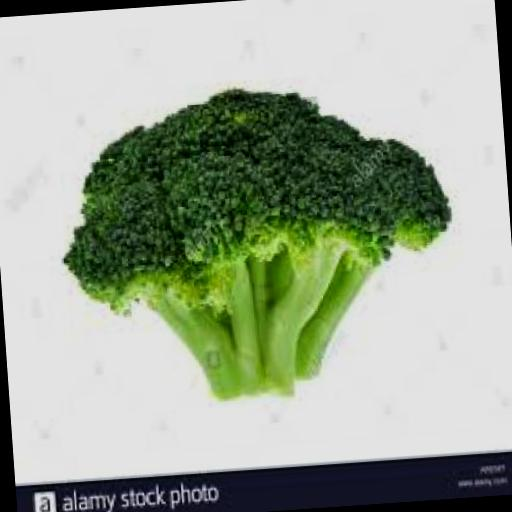biodegradable: (48, 70, 462, 409)
